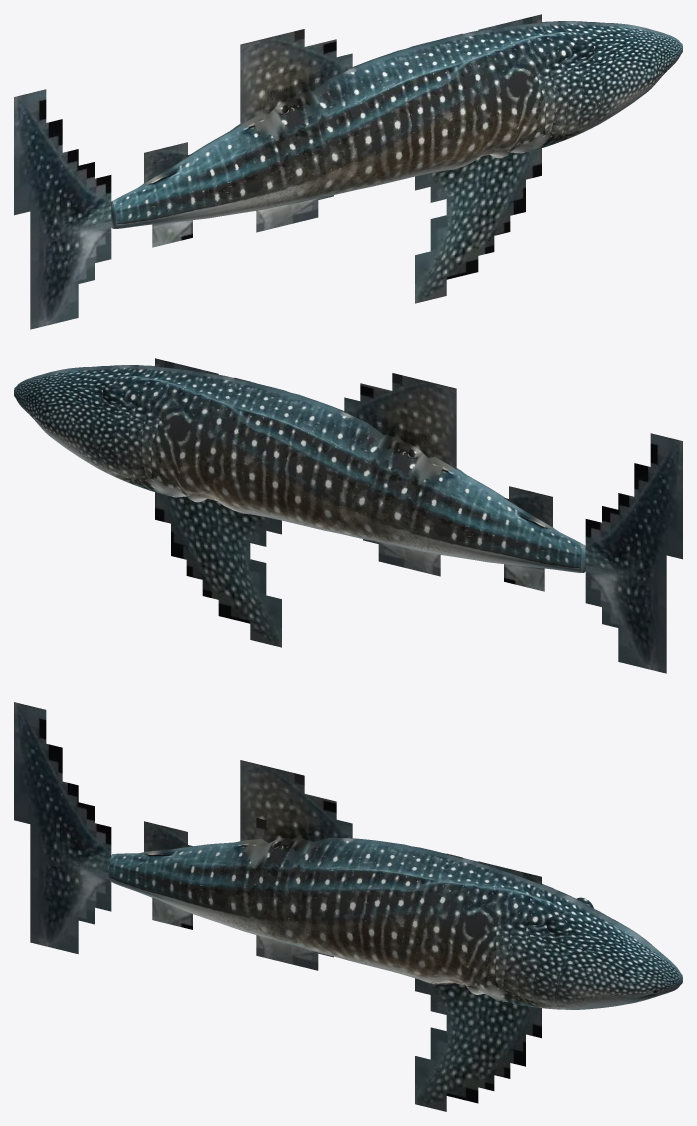
The model's file is real-rhincodon_typus.glb.
3 views of the same model, one above another, from view 1: azimuth 30°, elevation 25°; view 2: azimuth 150°, elevation 25°; view 3: azimuth 330°, elevation 25° (orthographic).
Parts seen in each view (by area): view 1: rhincodon_typus; view 2: rhincodon_typus; view 3: rhincodon_typus.
Part boxes in pixels (x1=…): rhincodon_typus: x1=14, y1=14, x2=682, y2=329; rhincodon_typus: x1=14, y1=358, x2=682, y2=673; rhincodon_typus: x1=14, y1=702, x2=682, y2=1111.
Bounding box in the file's own units: 10.02 × 4.36 × 1.34.
1 material, 1 textured.
